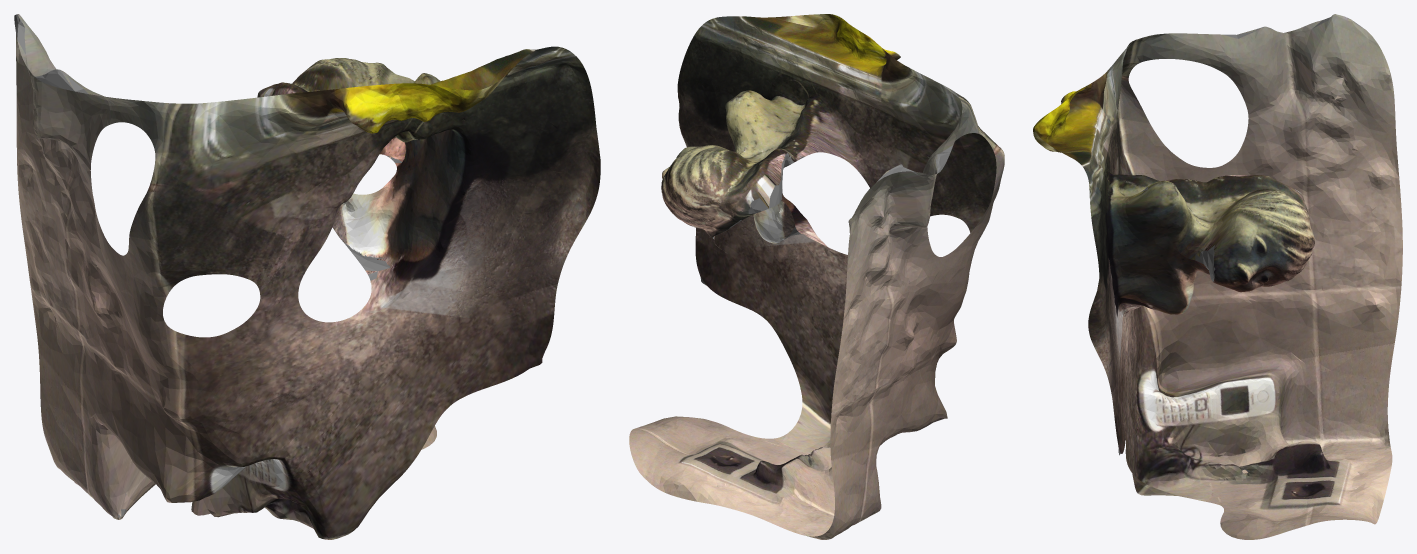
Rendered from krakerigeKop.obj.
The picture shows the model from 3 angles, left to right: view 1: azimuth 30°, elevation 25°; view 2: azimuth 150°, elevation 25°; view 3: azimuth 270°, elevation 25°; orthographic projection. The views are drawn at different scales.
Visible parts, largest first — view 1: Texture_0, Texture_1, Untextured; view 2: Texture_0, Texture_1, Untextured; view 3: Texture_0, Texture_1, Untextured.
Part boxes in pixels (x1,y1,x2,y2): Texture_0: [16, 14, 600, 539]; Texture_1: [38, 58, 522, 519]; Untextured: [14, 14, 401, 517]; Texture_0: [661, 14, 986, 465]; Texture_1: [629, 14, 1004, 539]; Untextured: [699, 145, 953, 462]; Texture_0: [1033, 14, 1402, 501]; Texture_1: [1033, 64, 1394, 539]; Untextured: [1118, 14, 1389, 474].
Size of the model in its own units: 55.14 by 57.84 by 47.44.
3 materials, 2 textured.
